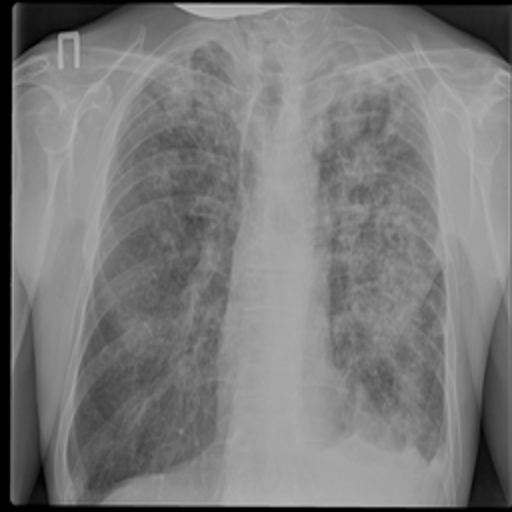TB: (103, 52, 233, 370), (328, 66, 434, 371)
